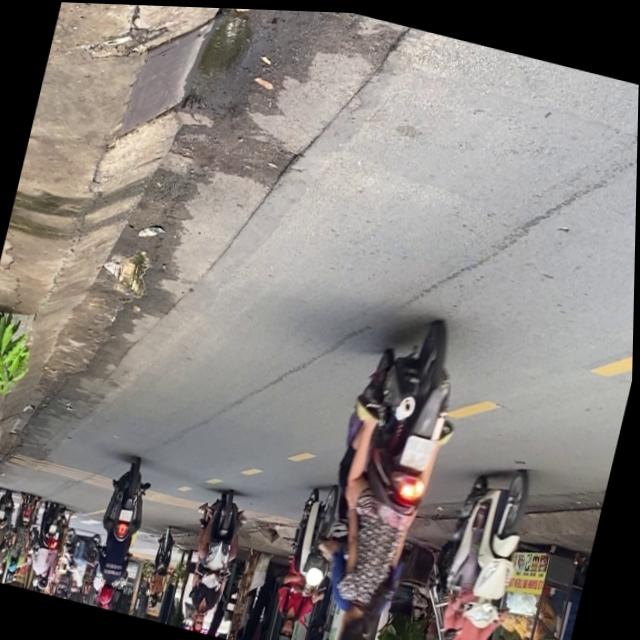helmet: (278, 614, 299, 640), (100, 582, 119, 606), (335, 637, 366, 640)
licenseplate: (293, 302, 479, 640), (414, 450, 545, 640), (266, 475, 352, 640), (177, 482, 256, 637), (85, 454, 160, 612)
motorcyclist: (335, 588, 378, 640), (193, 607, 211, 631)
nohelmet: (402, 431, 437, 467), (121, 507, 135, 522)
